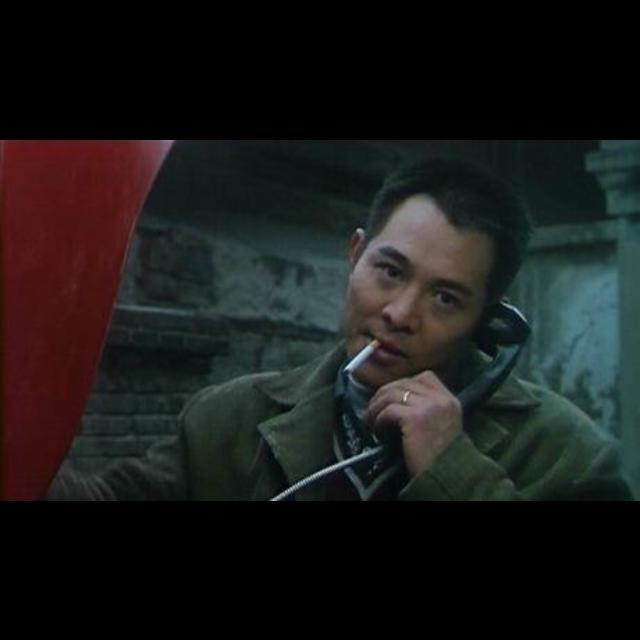rokok: (338, 335, 387, 379)
